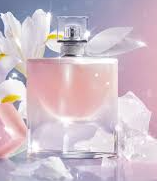lancome_la_vie_est_belle: (25, 18, 120, 159)
